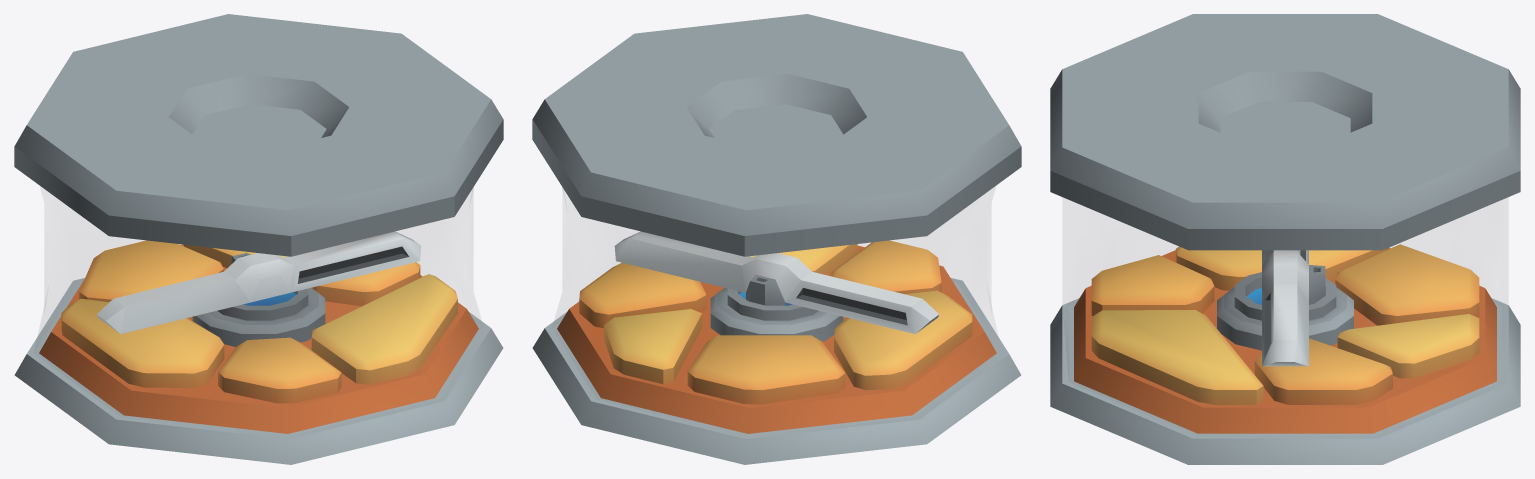
The model's file is Farm.fbx.
3 views of the same model, side by side, from view 1: azimuth 30°, elevation 25°; view 2: azimuth 150°, elevation 25°; view 3: azimuth 270°, elevation 25° (orthographic). The views are drawn at different scales.
Visible parts, largest first — view 1: eco_module, space_farm_large_sprinkler, sprinkler; view 2: eco_module, space_farm_large_sprinkler, sprinkler; view 3: eco_module, space_farm_large_sprinkler, sprinkler.
Boxes of the visible parts, <box> form: eco_module: <box>14,14,503,351</box>; space_farm_large_sprinkler: <box>14,240,503,464</box>; sprinkler: <box>97,231,421,333</box>; eco_module: <box>532,14,1021,351</box>; space_farm_large_sprinkler: <box>532,240,1021,464</box>; sprinkler: <box>614,231,938,333</box>; eco_module: <box>1050,14,1520,373</box>; space_farm_large_sprinkler: <box>1050,244,1520,464</box>; sprinkler: <box>1262,250,1325,366</box>.
Bounding box in the file's own units: 200 × 121 × 200.
